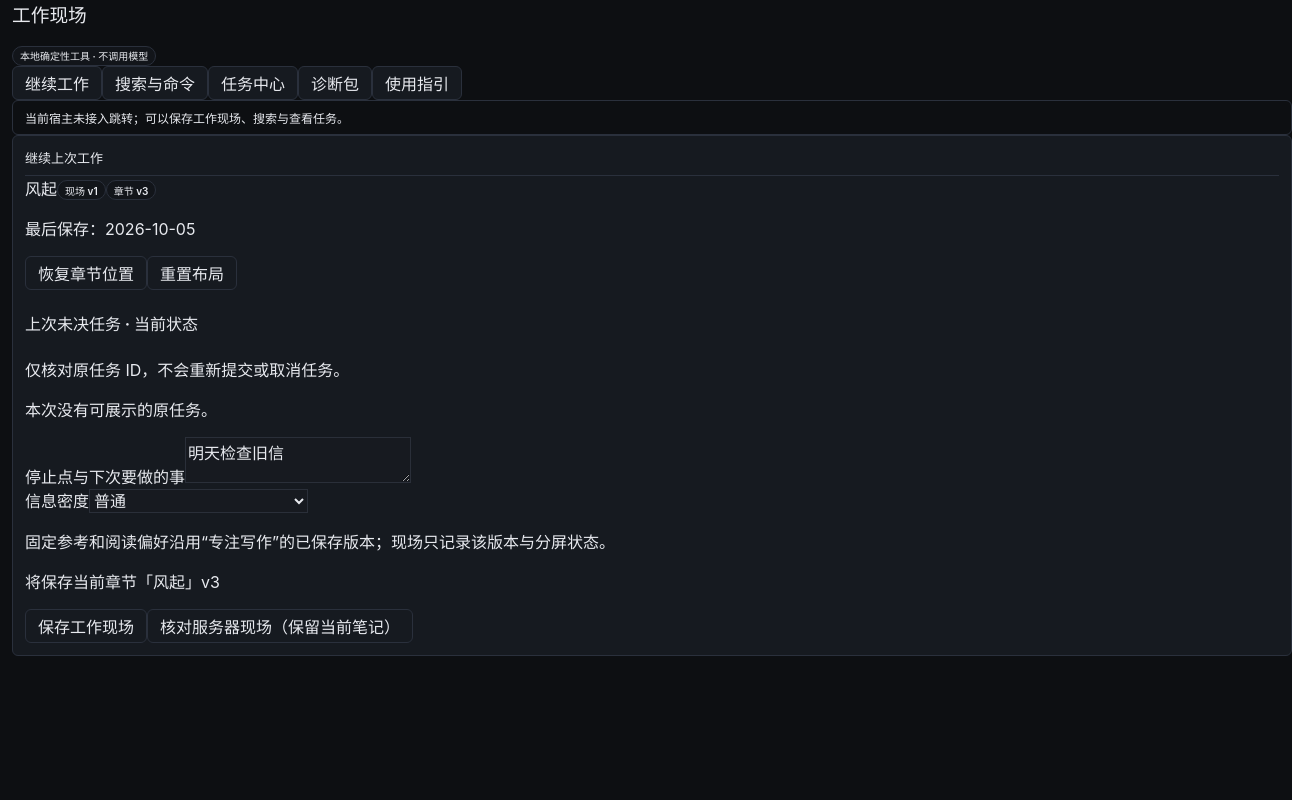
real workspace tools UI › saves explicit chapter metadata and note with CAS, never manuscript or token
This screenshot has width=1292, height=800.
Replace the text in the text box labelled "停止点与下次要做的事" with "继续第三章" at (298, 460), box [185,437,411,483]
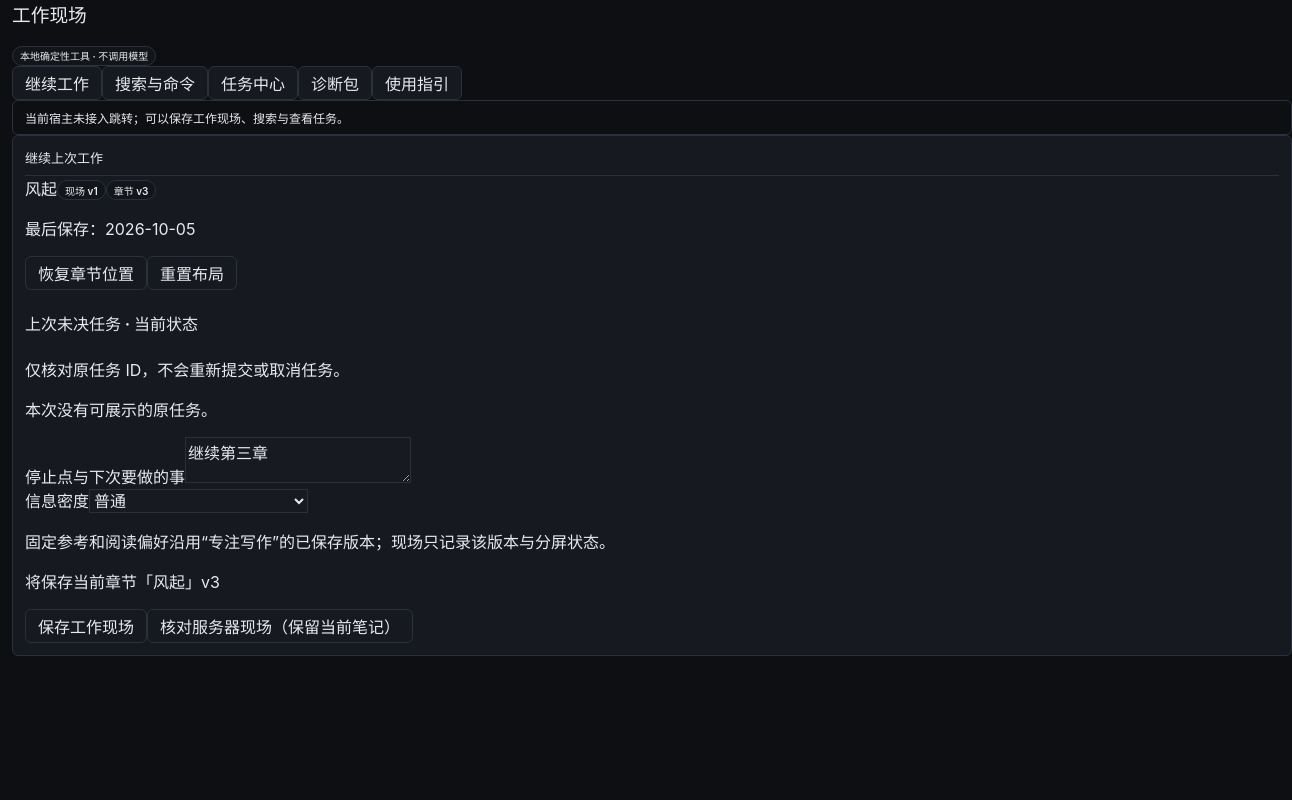
Click the button "保存工作现场" at (86, 626), box [25,609,147,643]
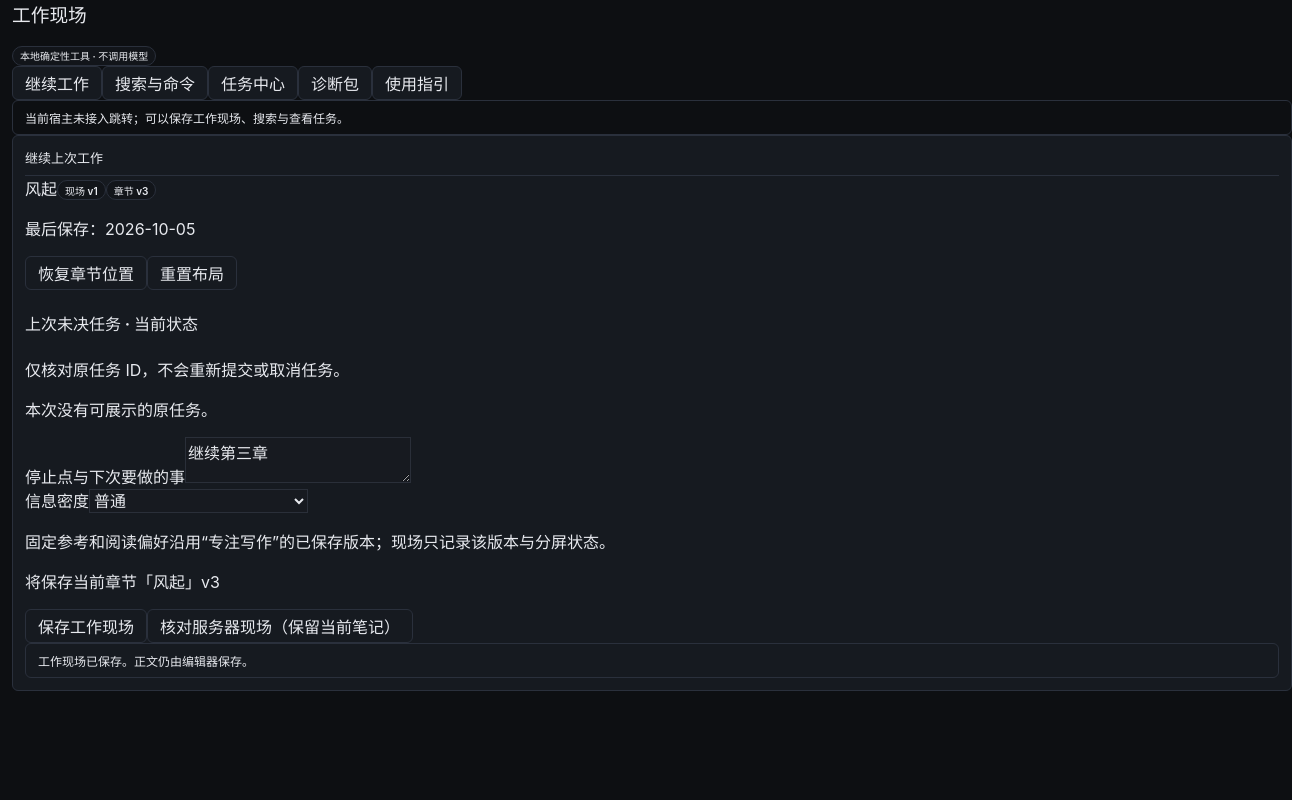
Result: the text "工作现场已保存。正文仍由编辑器保存。" is shown at [25,643,1279,678]
